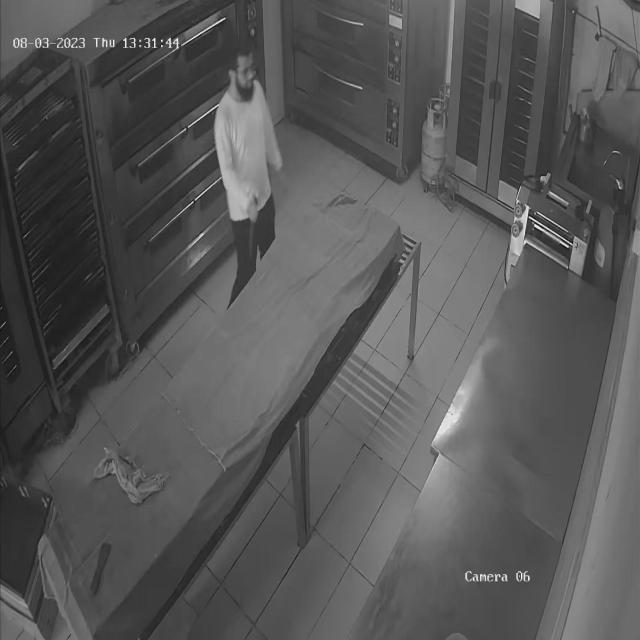Knife: (240, 196, 264, 259)
